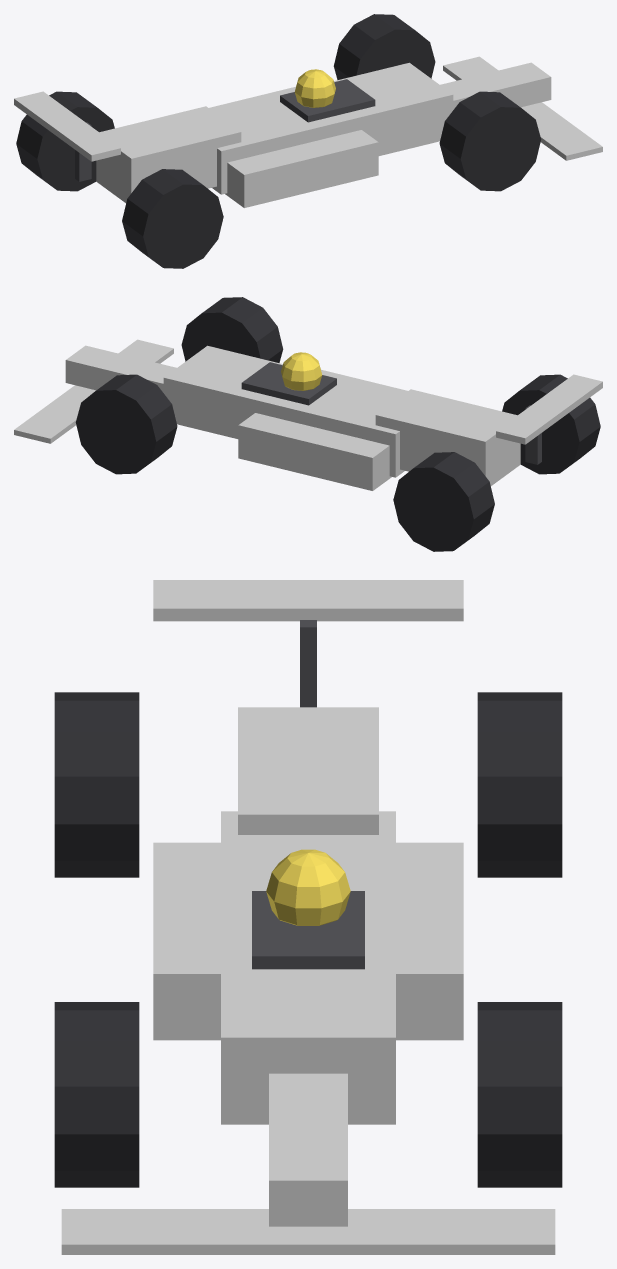
File: carro.glb
The picture shows the model from 3 angles, top to bottom: view 1: azimuth 30°, elevation 25°; view 2: azimuth 150°, elevation 25°; view 3: azimuth 270°, elevation 25°; orthographic projection. The views are drawn at different scales.
Visible parts, largest first — view 1: Monocasco, Motor, Pontones, Rueda_3, Rueda_1, Rueda_0, Rueda_2, AleronDelantero, AleronTrasero, Nariz, Cockpit, Casco (+1 smaller); view 2: Monocasco, Motor, Pontones, Rueda_2, Rueda_0, Rueda_1, Rueda_3, AleronDelantero, AleronTrasero, Nariz, Cockpit, Casco (+1 smaller); view 3: Monocasco, Pontones, AleronDelantero, Motor, Rueda_0, Rueda_1, Rueda_2, Rueda_3, AleronTrasero, Nariz, Cockpit, Casco (+1 smaller).
Part boxes in pixels (<box>): Monocasco: <box>212,62,453,194</box>; Motor: <box>96,106,241,203</box>; Pontones: <box>209,86,378,207</box>; Rueda_3: <box>122,169,223,268</box>; Rueda_1: <box>439,91,541,191</box>; Rueda_0: <box>333,14,435,79</box>; Rueda_2: <box>16,91,114,191</box>; AleronDelantero: <box>443,56,602,160</box>; AleronTrasero: <box>14,91,120,161</box>; Nariz: <box>440,62,551,109</box>; Cockpit: <box>280,79,375,122</box>; Casco: <box>294,69,335,107</box>; Monocasco: <box>163,345,404,477</box>; Motor: <box>375,389,520,486</box>; Pontones: <box>238,369,407,490</box>; Rueda_2: <box>393,452,494,551</box>; Rueda_0: <box>75,374,177,474</box>; Rueda_1: <box>181,297,283,362</box>; Rueda_3: <box>502,374,600,474</box>; AleronDelantero: <box>14,339,173,443</box>; AleronTrasero: <box>496,374,602,444</box>; Nariz: <box>65,345,176,392</box>; Cockpit: <box>241,362,336,405</box>; Casco: <box>281,352,322,390</box>; Monocasco: <box>221,811,395,1124</box>; Pontones: <box>153,842,463,1040</box>; AleronDelantero: <box>61,1209,555,1254</box>; Motor: <box>238,707,378,834</box>; Rueda_0: <box>477,1002,562,1187</box>; Rueda_1: <box>54,1002,139,1187</box>; Rueda_2: <box>477,692,562,877</box>; Rueda_3: <box>54,692,139,877</box>; AleronTrasero: <box>153,580,463,621</box>; Nariz: <box>269,1073,347,1226</box>; Cockpit: <box>252,891,364,969</box>; Casco: <box>266,849,350,925</box>.
Size of the model in its own units: 4 by 0.875 by 1.8.
